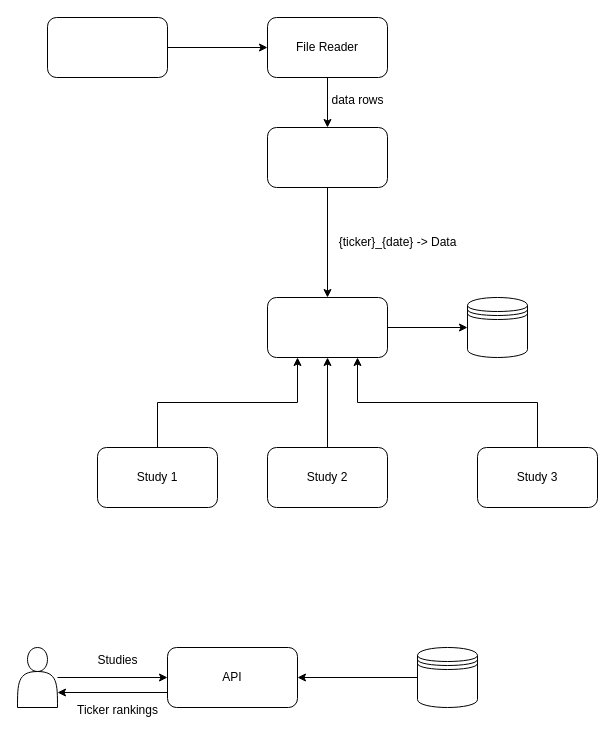
Some shapes in this 615 by 743 pixel diagram are drawn without their labels. Each missing label, with the box of its shape:
Data csv file: (46, 16, 168, 78)
Process Data: (266, 296, 388, 358)
PublishData: (266, 126, 388, 188)
